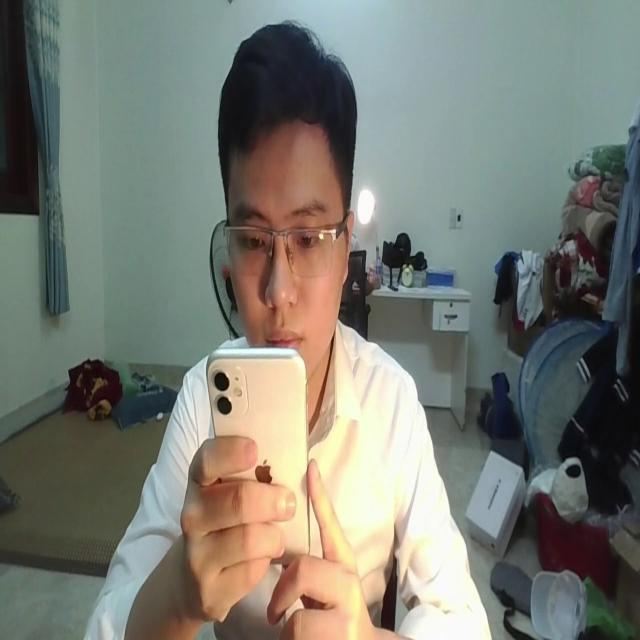phone: (205, 340, 313, 571)
student: (84, 26, 492, 640)
